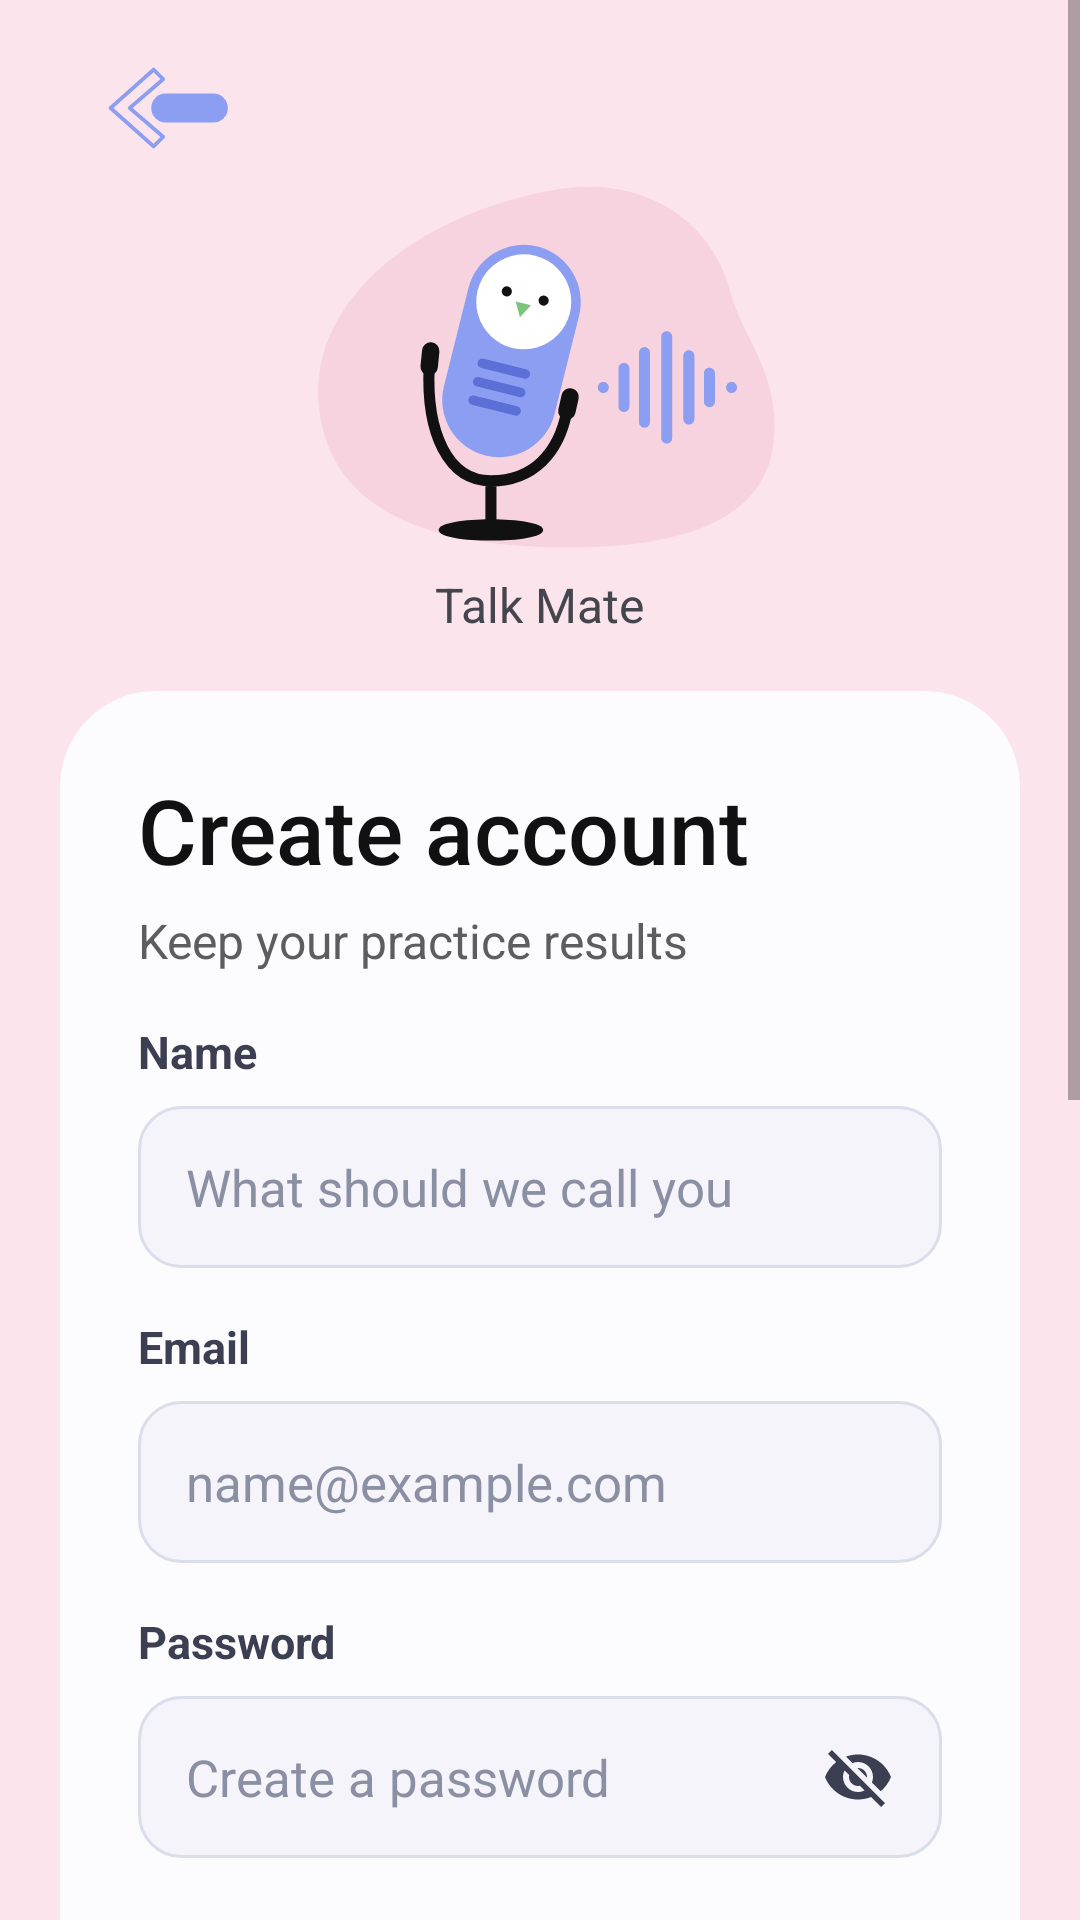

Icon click points for this 1080w x 1920h phone screenshot, format [x,y]:
Back: [168,108]
Show password: [858,1778]
